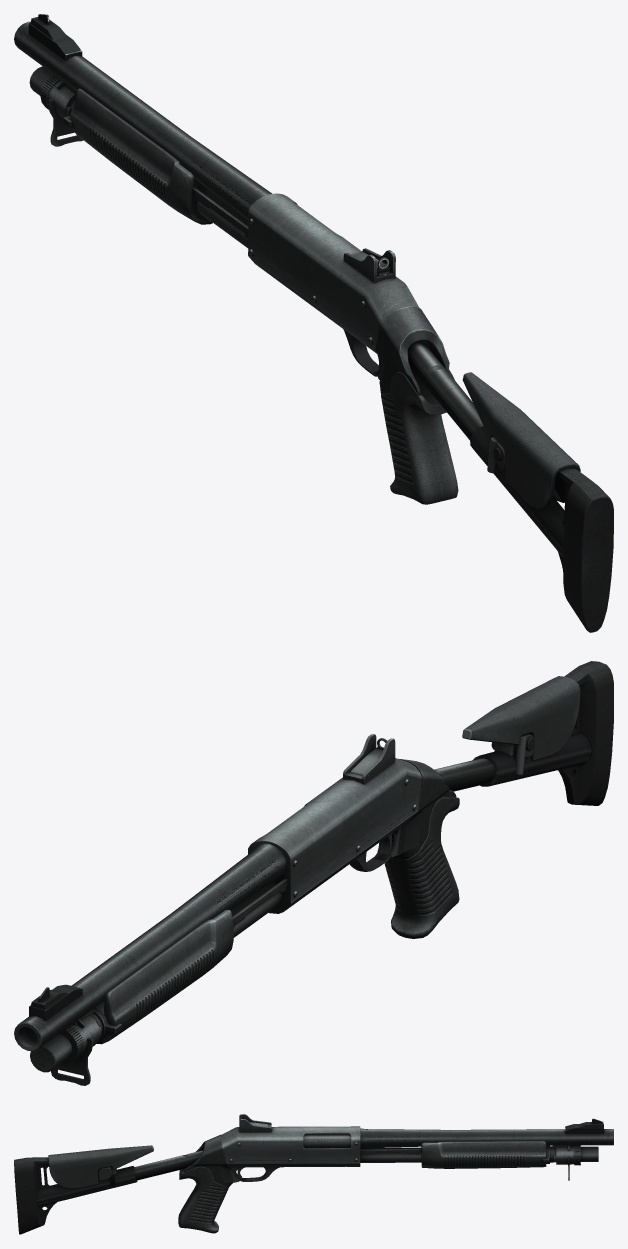
The picture shows the model from 3 angles, top to bottom: view 1: azimuth 30°, elevation 25°; view 2: azimuth 150°, elevation 25°; view 3: azimuth 270°, elevation 25°; orthographic projection. The views are drawn at different scales.
Visible parts, largest first — view 1: DrawCall_0322, DrawCall_0319; view 2: DrawCall_0322, DrawCall_0319; view 3: DrawCall_0322, DrawCall_0319, DrawCall_0318.
Boxes of the visible parts, x1,y1,x2,y2 form: DrawCall_0322: (14, 14, 613, 632); DrawCall_0319: (64, 88, 248, 238); DrawCall_0322: (14, 661, 613, 1085); DrawCall_0319: (90, 879, 287, 1044); DrawCall_0322: (14, 1114, 613, 1234); DrawCall_0319: (360, 1141, 556, 1168); DrawCall_0318: (303, 1133, 351, 1148).
Bounding box in the file's own units: 13.79 × 56.55 × 262.
